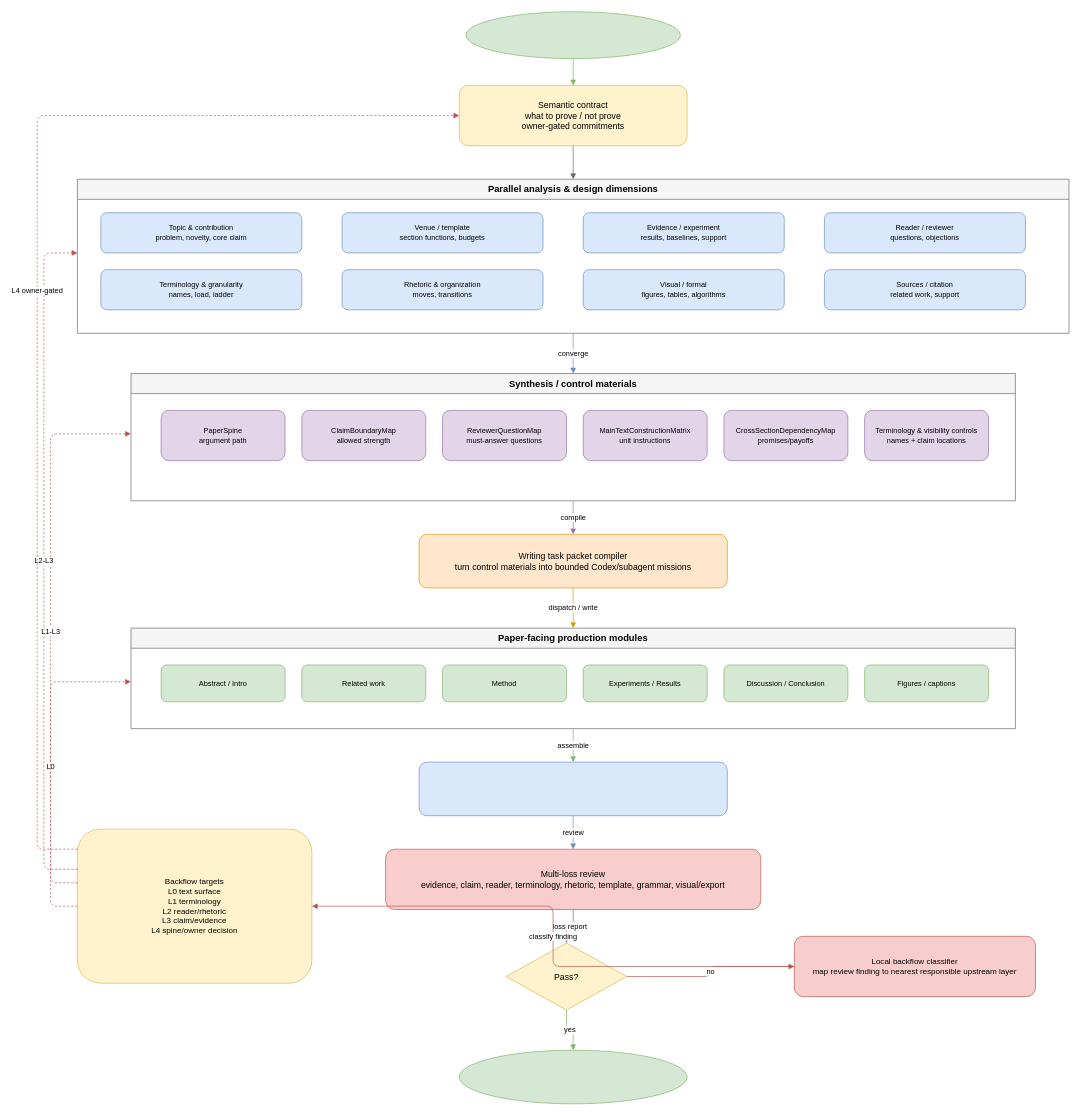
Some shapes in this 1081 by 1116 pixel diagram are drawn without their labels. Each missing label, with the centre of its shape:
"Final paper artifact manuscript, figures, supplement, owner handoff" goes at pixel 573 1077.
"Human concrete need topic, purpose, constraints, risk tolerance" goes at pixel 572 35.
"Integration layer full manuscript candidate + cross-section consistency" goes at pixel 572 788.
